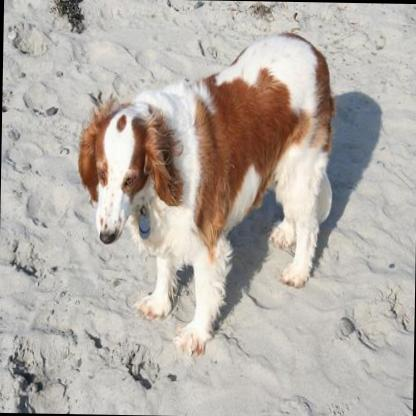Welsh_springer_spaniel: (69, 23, 338, 364)
